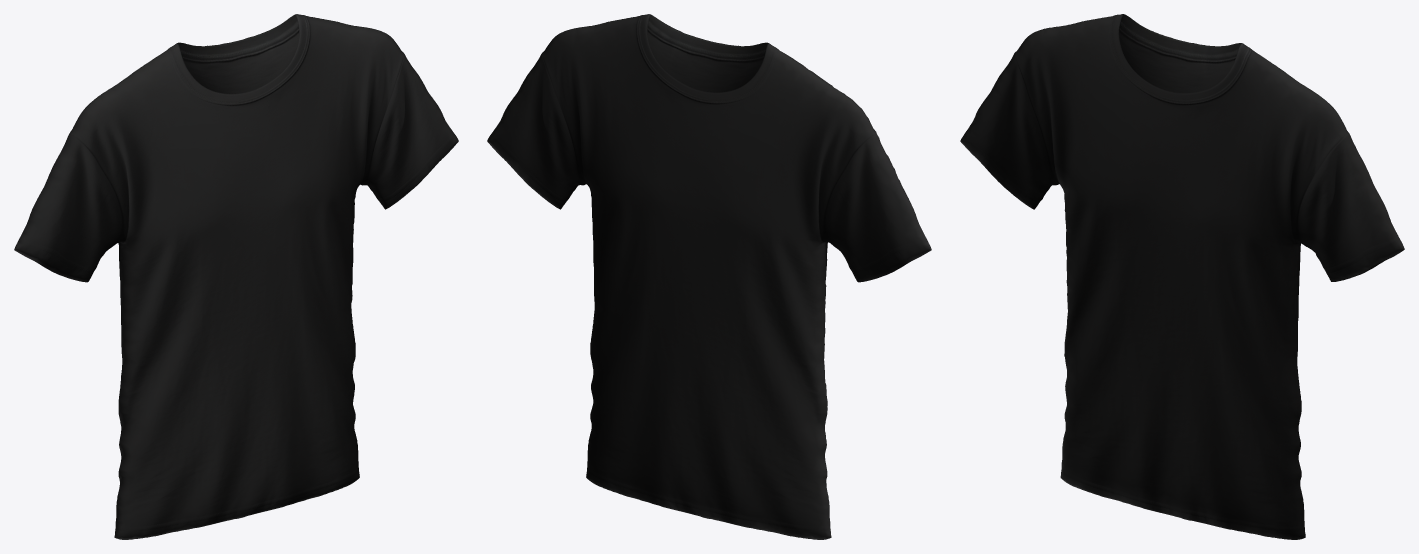
Rendered from t-shirt2.glb.
The picture shows the model from 3 angles, left to right: view 1: azimuth 30°, elevation 25°; view 2: azimuth 150°, elevation 25°; view 3: azimuth 330°, elevation 25°; orthographic projection.
Parts seen in each view (by area): view 1: t-shirt2; view 2: t-shirt2; view 3: t-shirt2.
Boxes of the visible parts, left/top/right/bottom form: t-shirt2: left=14, top=14, right=458, bottom=539; t-shirt2: left=487, top=14, right=931, bottom=539; t-shirt2: left=960, top=14, right=1404, bottom=539.
Size of the model in its own units: 1.54 by 1.63 by 0.1784.
Materials: 1 (1 with a texture image).
